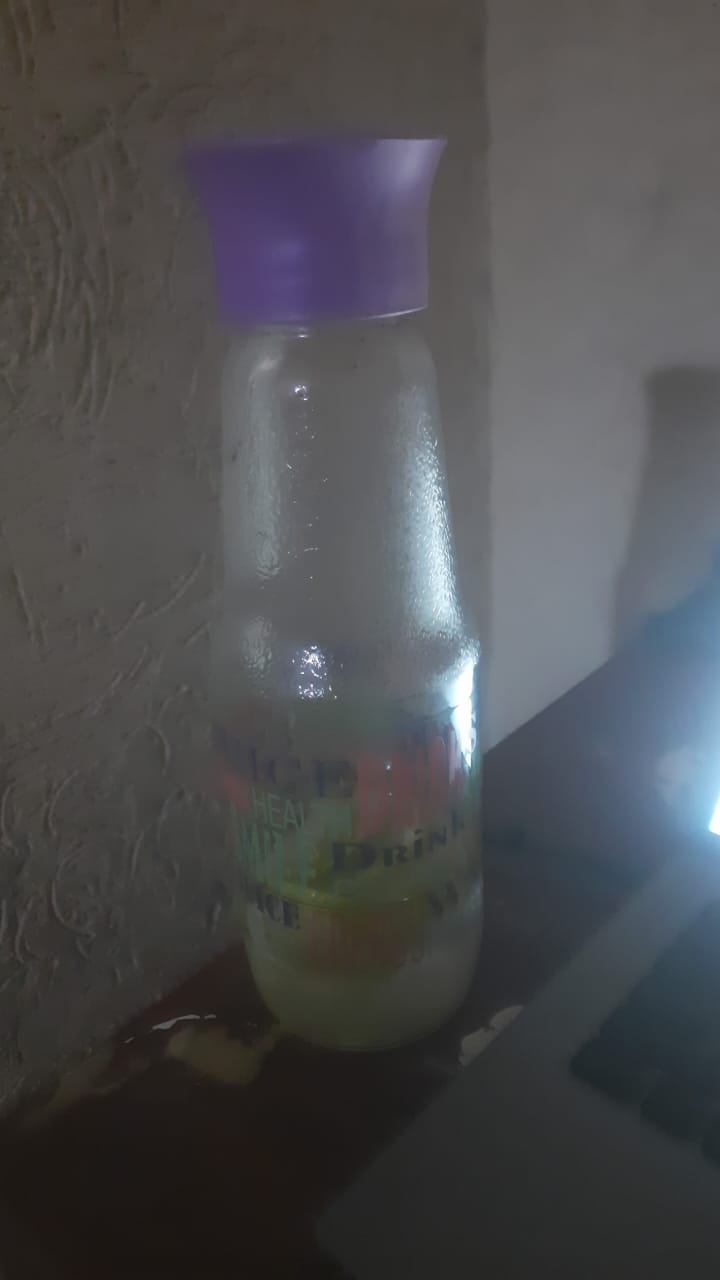bottle: (172, 143, 490, 1018)
